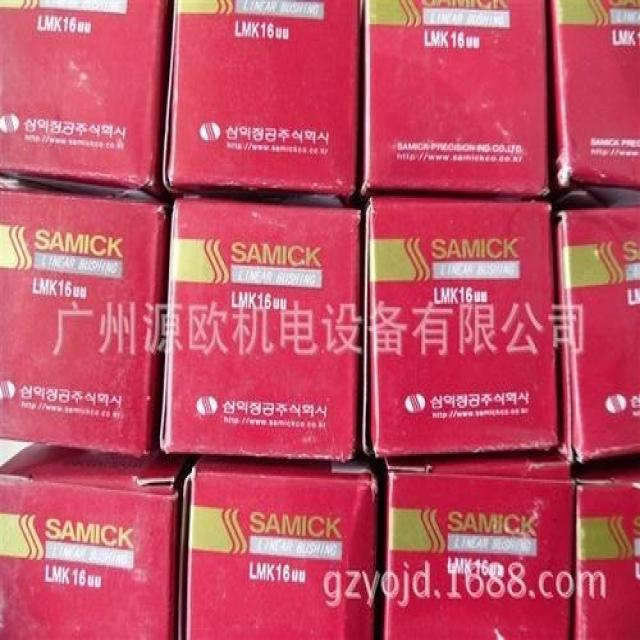box: (160, 200, 362, 463), (362, 200, 560, 460), (0, 184, 168, 458), (166, 2, 361, 208), (360, 1, 548, 202), (0, 445, 189, 638), (179, 457, 379, 638), (376, 458, 575, 638), (0, 2, 174, 200), (553, 205, 639, 462), (548, 0, 639, 208), (571, 460, 639, 638)
